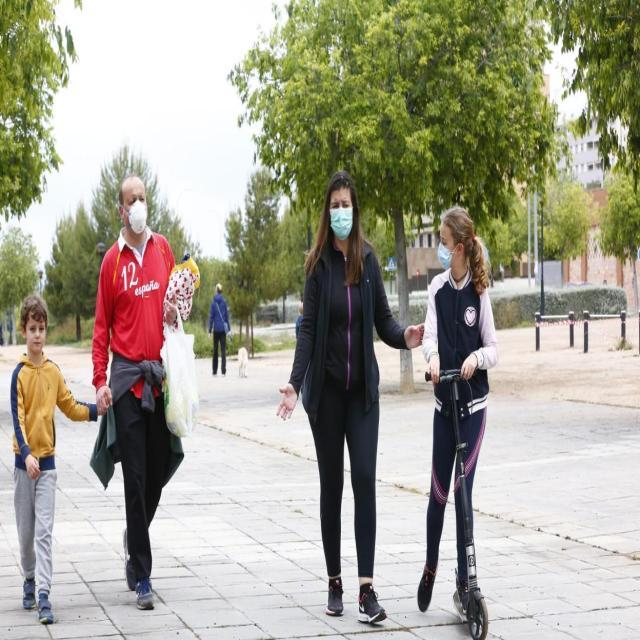person: (270, 149, 424, 640), (78, 160, 188, 604), (406, 192, 496, 640), (2, 290, 116, 638), (196, 262, 236, 402)
